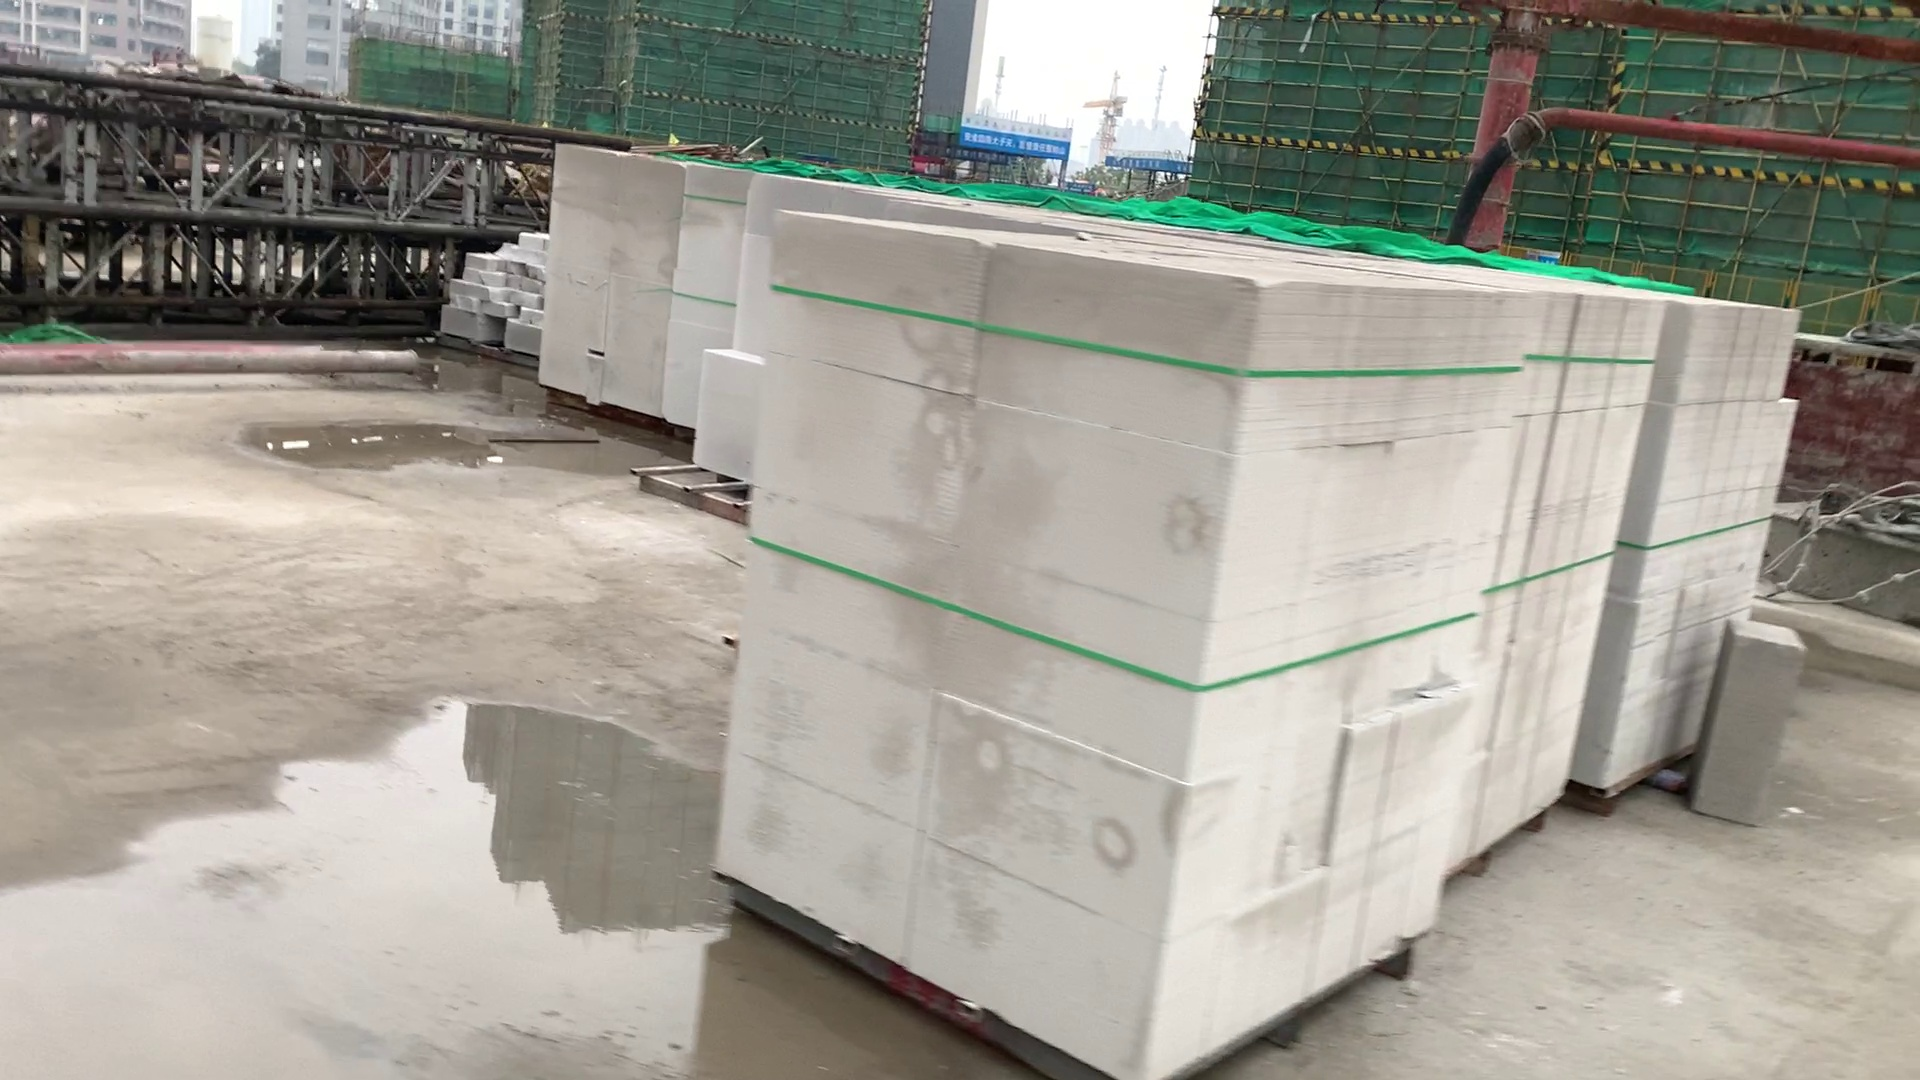brickwork: (715, 219, 1266, 1080), (1472, 293, 1625, 869), (1617, 287, 1778, 791), (535, 145, 665, 415), (662, 164, 731, 433)
